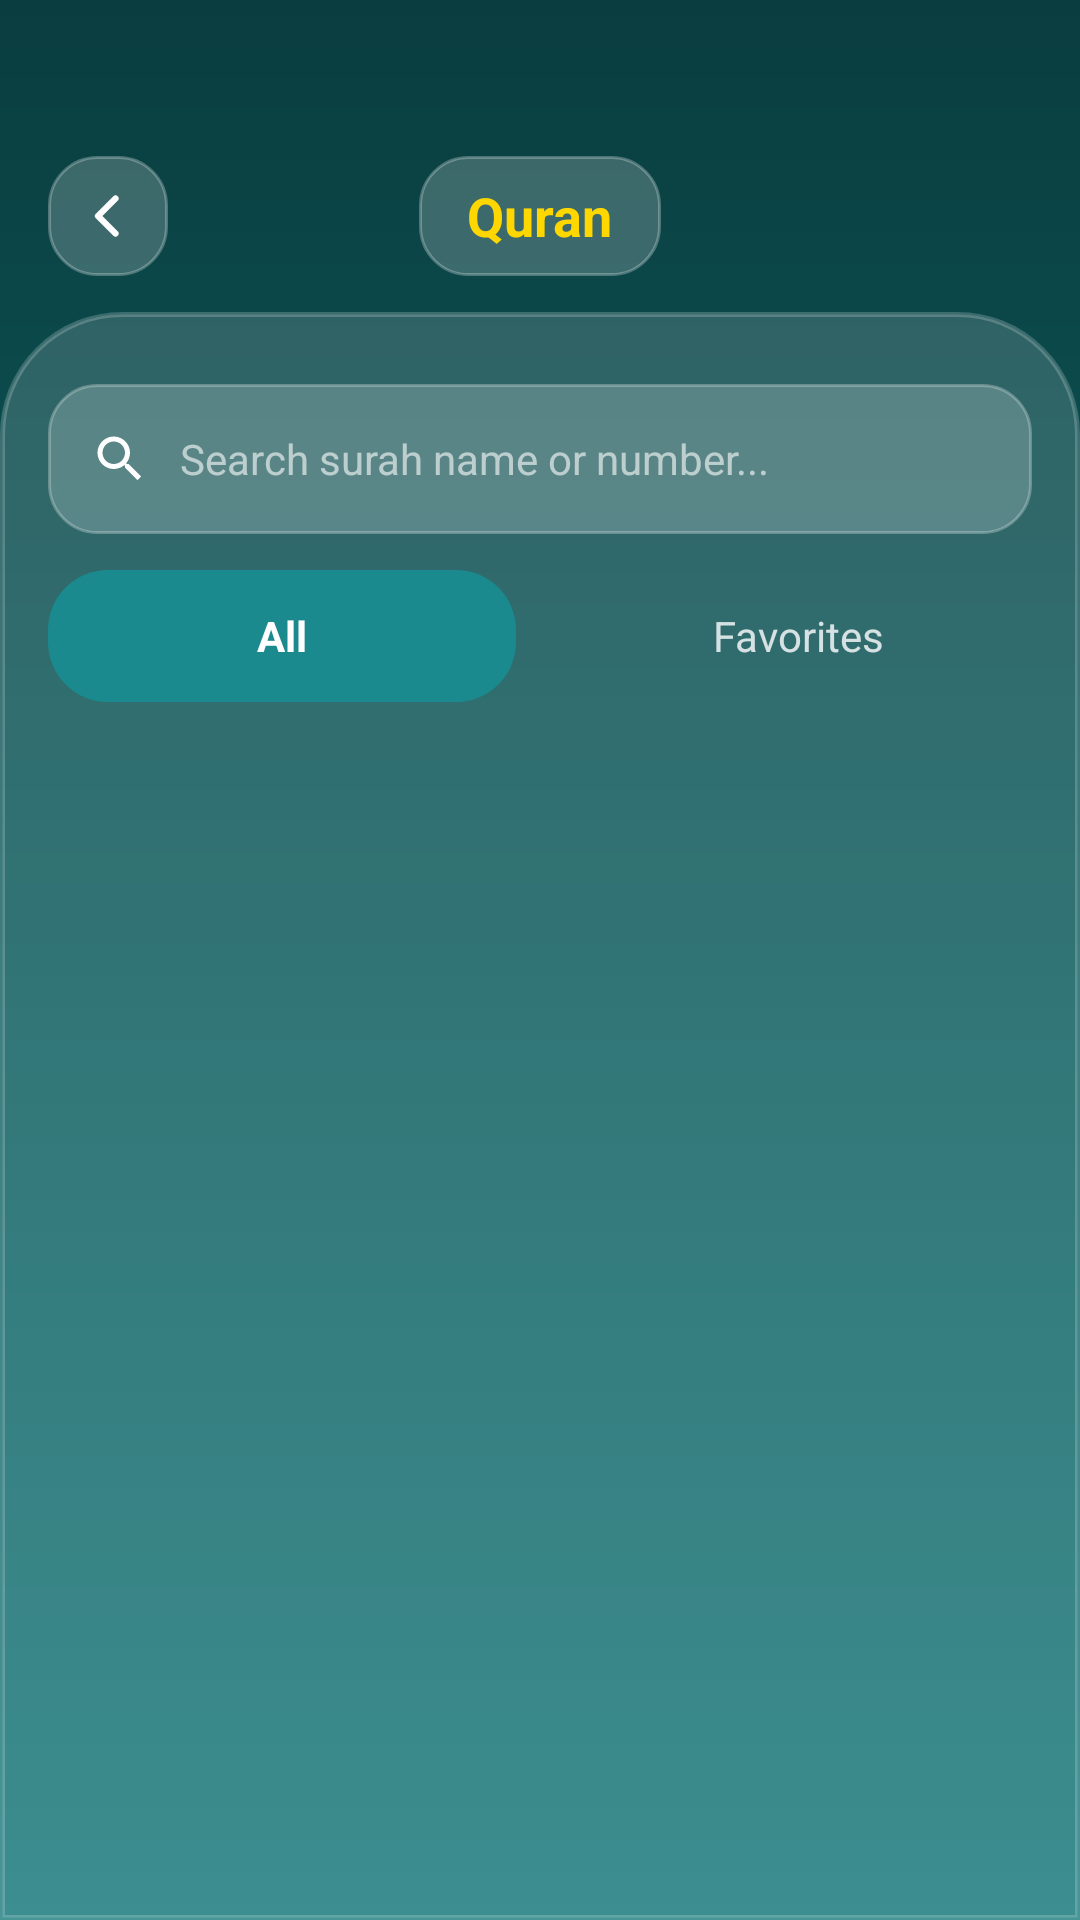

Icons on this 1080*1920 Android screen, each with the point to tap as (x,y):
Back: (108,216)
